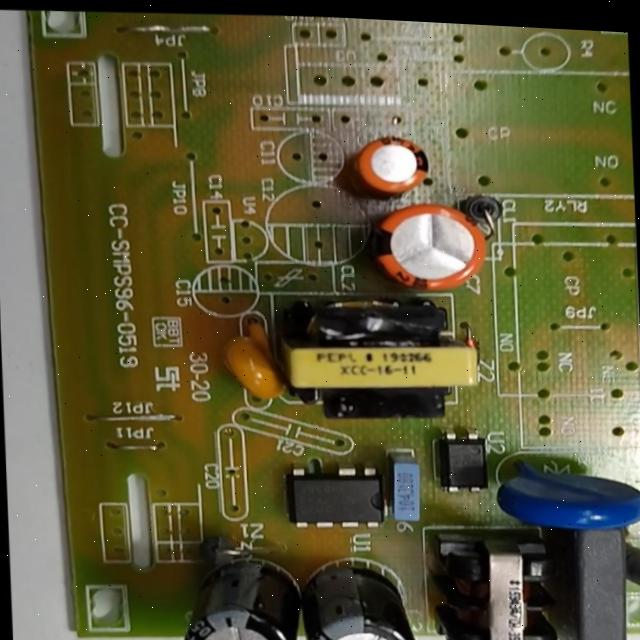Cap1: (366, 199, 499, 302)
Cap2: (343, 124, 445, 203)
Cap3: (299, 567, 428, 640)
Cap4: (178, 561, 305, 640)
MOSFET: (275, 450, 401, 540)
Mov: (496, 465, 640, 539)
Resistor: (615, 545, 640, 600)
Transformer: (272, 287, 482, 434), (422, 525, 572, 640)
